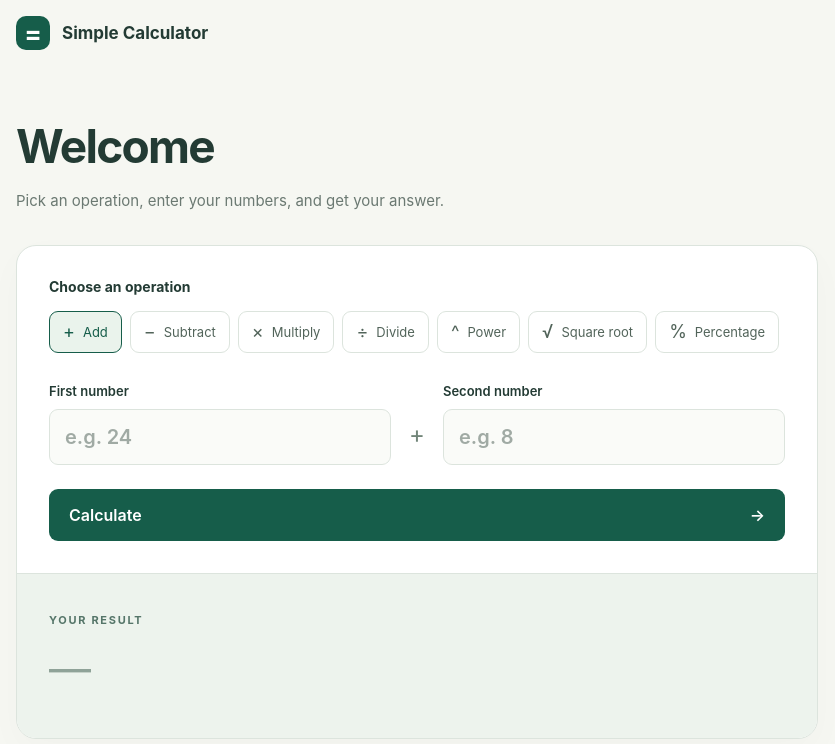
Test: Calculator › calculates Subtract through the API
This screenshot has width=835, height=744.
Type "24" into the number field labelled "First number" at (220, 437), box [49,409,391,465]
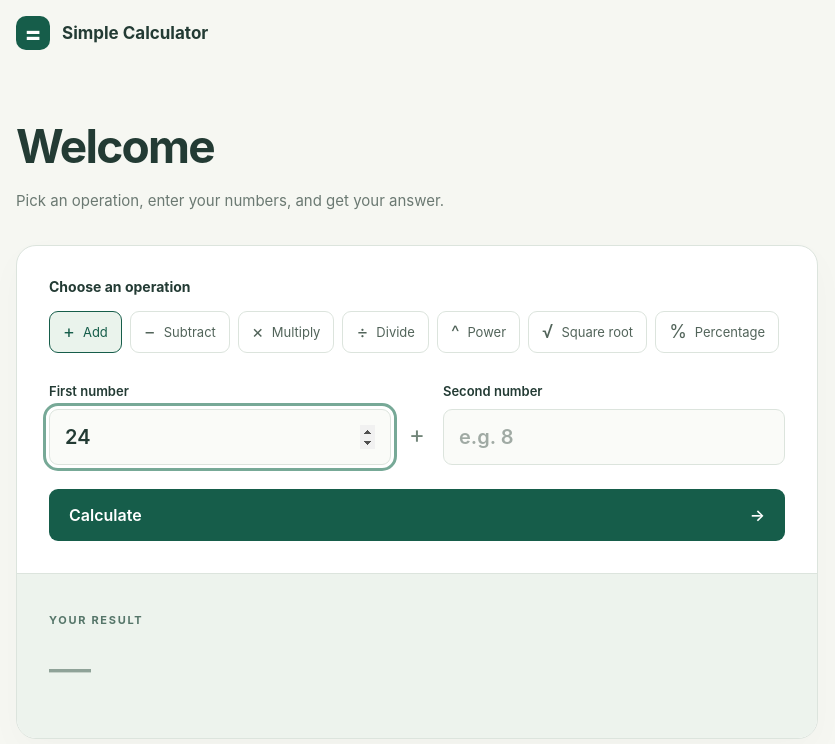
Type "8" into the number field labelled "Second number" at (614, 437), box [443,409,785,465]
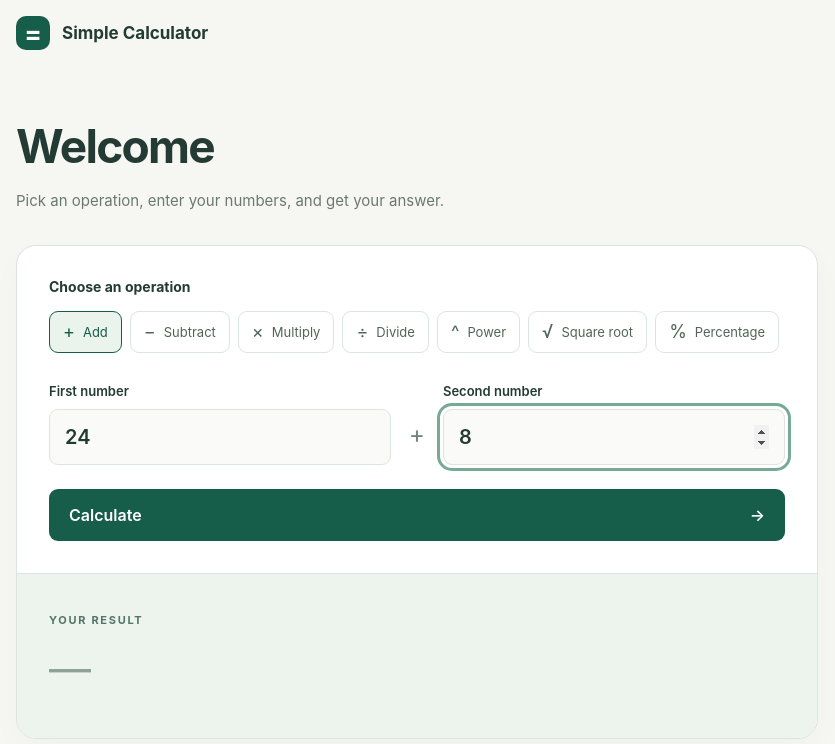
Click the button "− Subtract" at (180, 332), box [130,311,230,353]
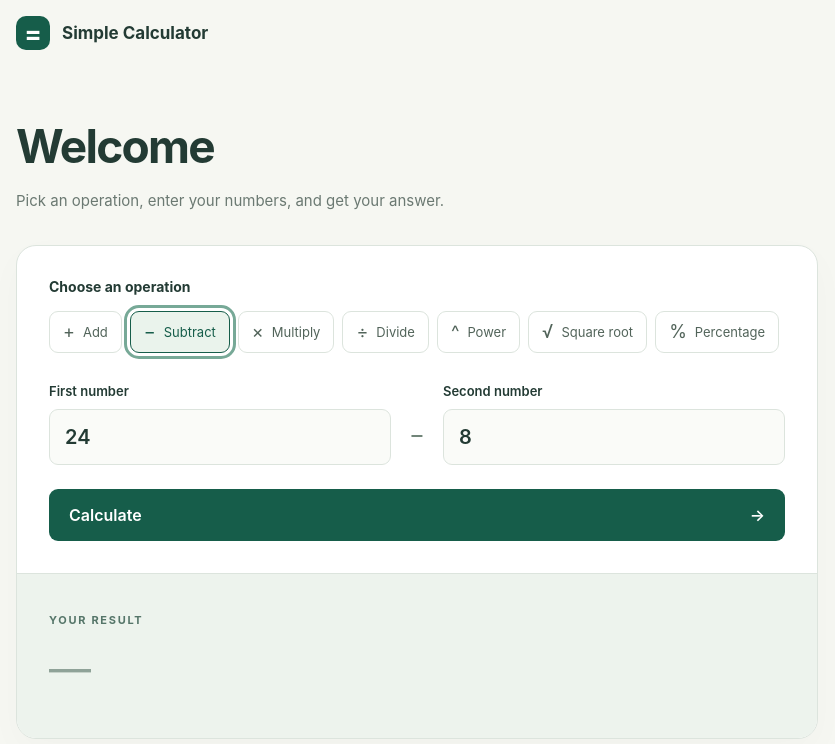
Click the button "Calculate →" at (105, 515), box [49,489,785,541]
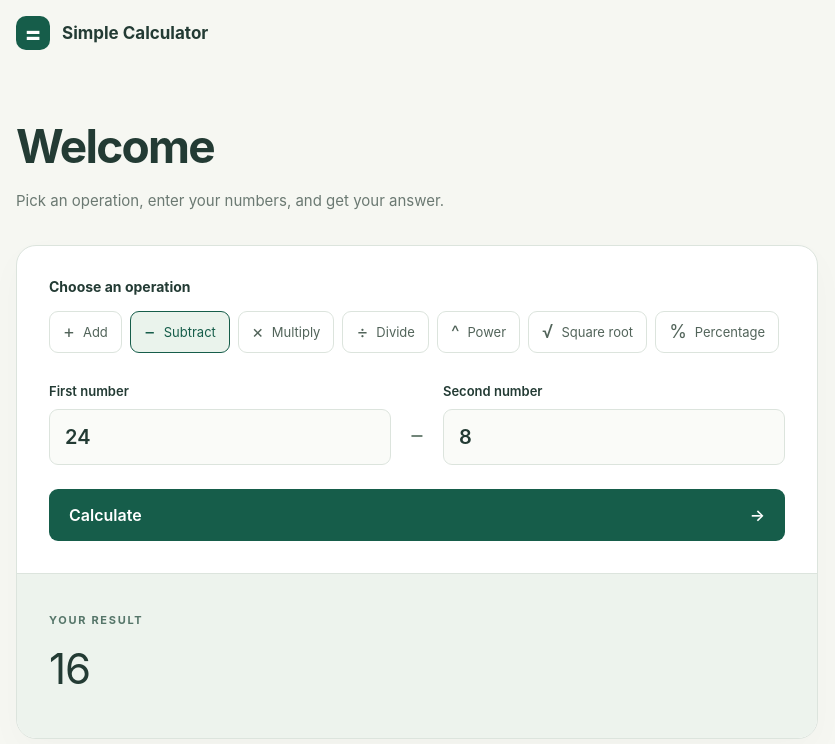
Expected: the message shows "16", [49,643,90,694]
